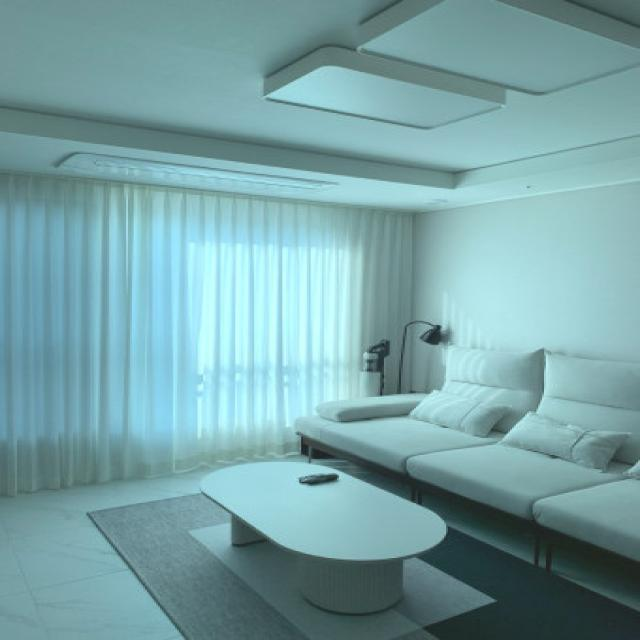Sofa: (306, 338, 640, 566)
Table: (198, 453, 449, 616)
window: (1, 176, 418, 390)
